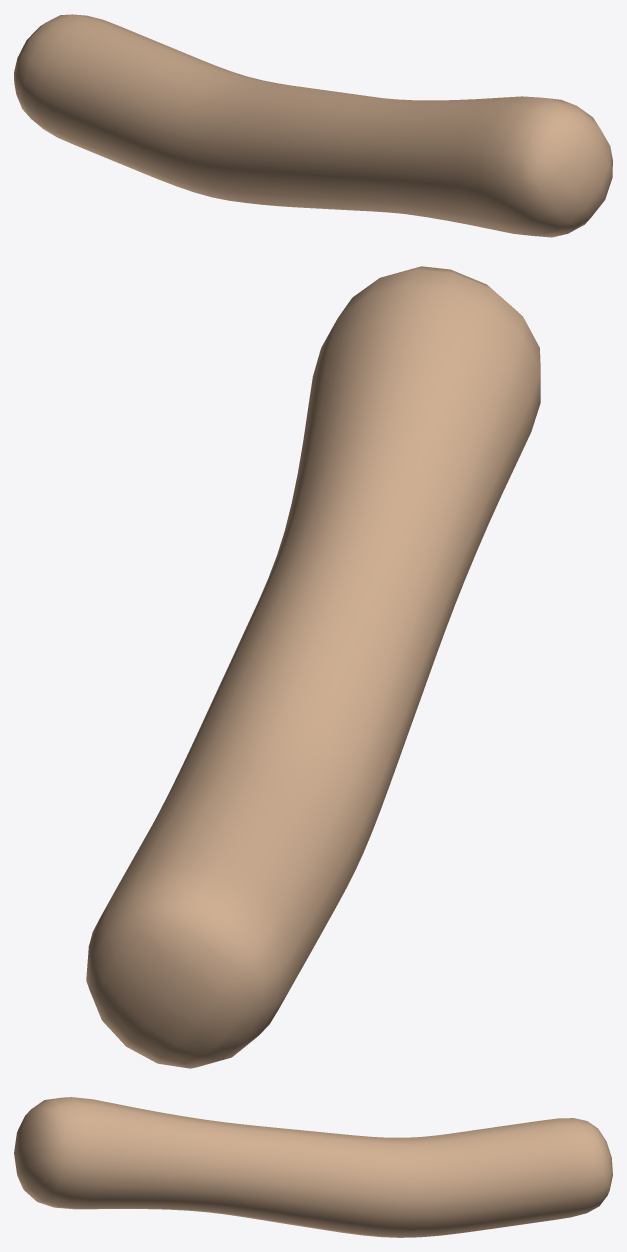
The picture shows the model from 3 angles, top to bottom: view 1: azimuth 30°, elevation 25°; view 2: azimuth 150°, elevation 25°; view 3: azimuth 270°, elevation 25°; orthographic projection. The views are drawn at different scales.
Parts seen in each view (by area): view 1: 右侧桡侧腕屈肌腱鞘; view 2: 右侧桡侧腕屈肌腱鞘; view 3: 右侧桡侧腕屈肌腱鞘.
Boxes of the visible parts, x1,y1,x2,y2 form: 右侧桡侧腕屈肌腱鞘: (14,14,612,237); 右侧桡侧腕屈肌腱鞘: (86,266,540,1068); 右侧桡侧腕屈肌腱鞘: (14,1097,612,1237).
Size of the model in its own units: 0.0225 by 0.0171 by 0.0523.
